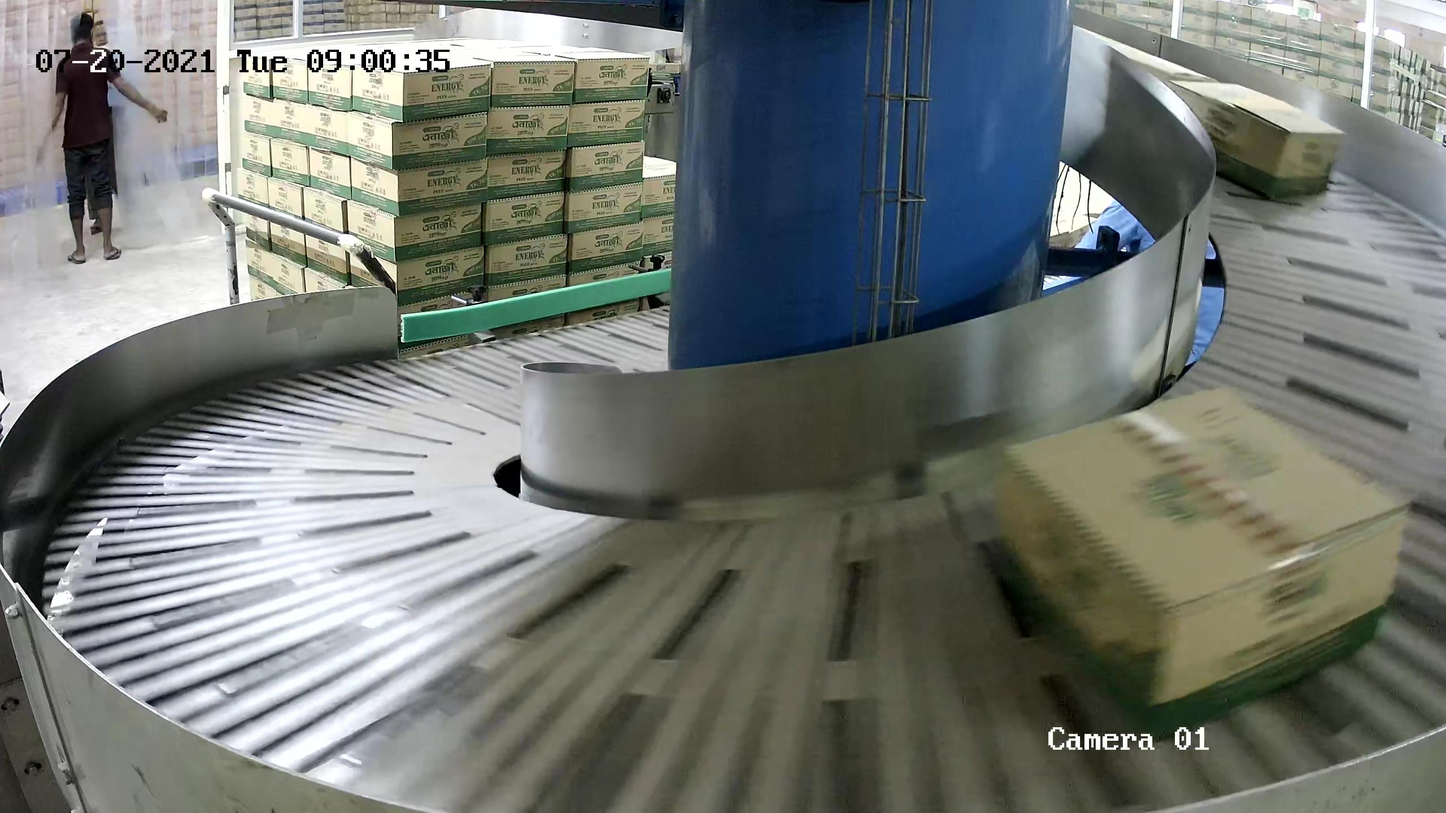Box: (992, 380, 1418, 747), (1161, 79, 1344, 201)
